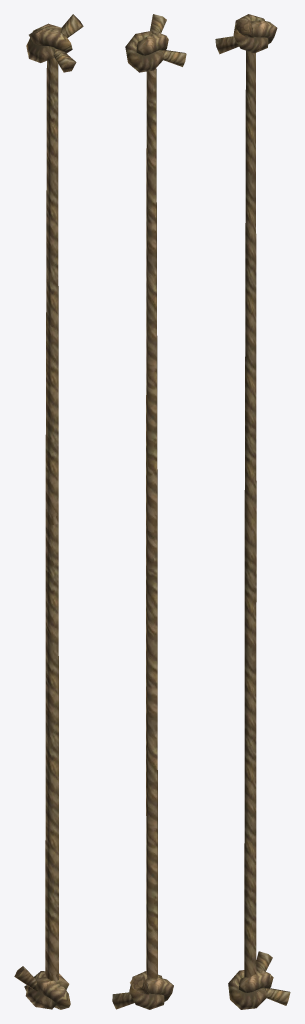
3 renders of one model, left to right at view 1: azimuth 90°, elevation 25°; view 2: azimuth 150°, elevation 25°; view 3: azimuth 330°, elevation 25°, orthographic.
Bounding box in the file's own units: 0.5594 × 8.94 × 0.5681.
2 materials, 2 textured.
